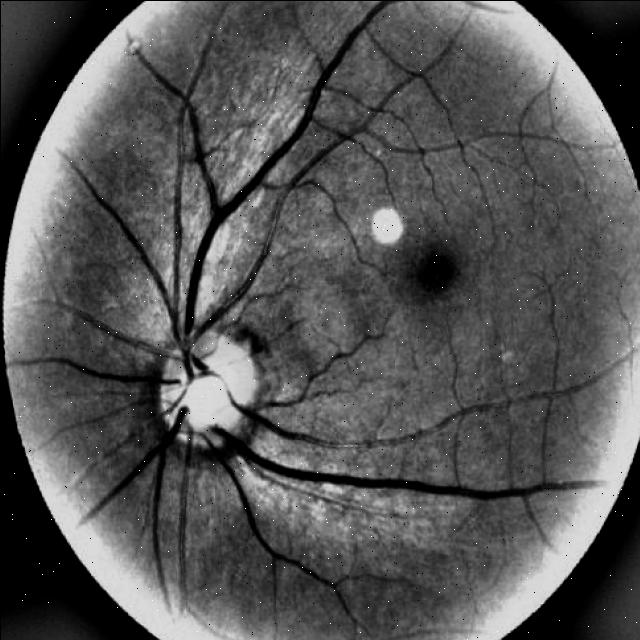Macula: (417, 254, 455, 292)
Nerves: (62, 0, 596, 610), (65, 0, 401, 395), (85, 409, 598, 621), (226, 376, 600, 448), (262, 332, 382, 409), (12, 354, 177, 386), (226, 390, 319, 444), (283, 136, 349, 198), (45, 360, 164, 383), (272, 198, 283, 229)
Optic Disk: (157, 331, 263, 447)
